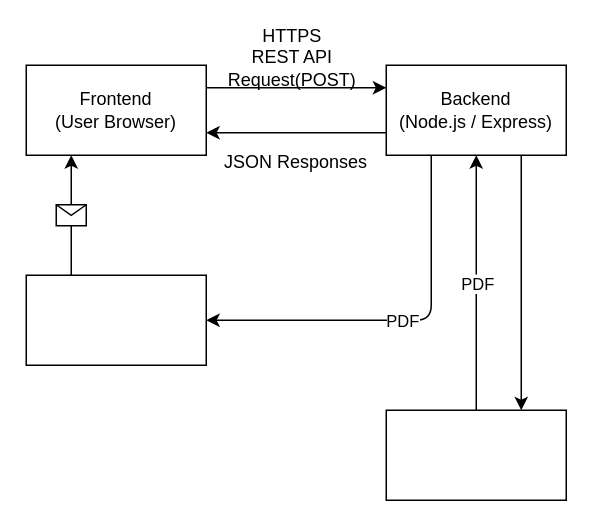
The diagram is 593 pixels wide and 527 high, and some of its shapes have lost their labels. The centre of each missing label's shape, as x and y in pixels:
"Email Server (Gmail/SMTP)" belongs at (x=115, y=319).
"PDF Generation (pdfkit)" belongs at (x=475, y=454).
